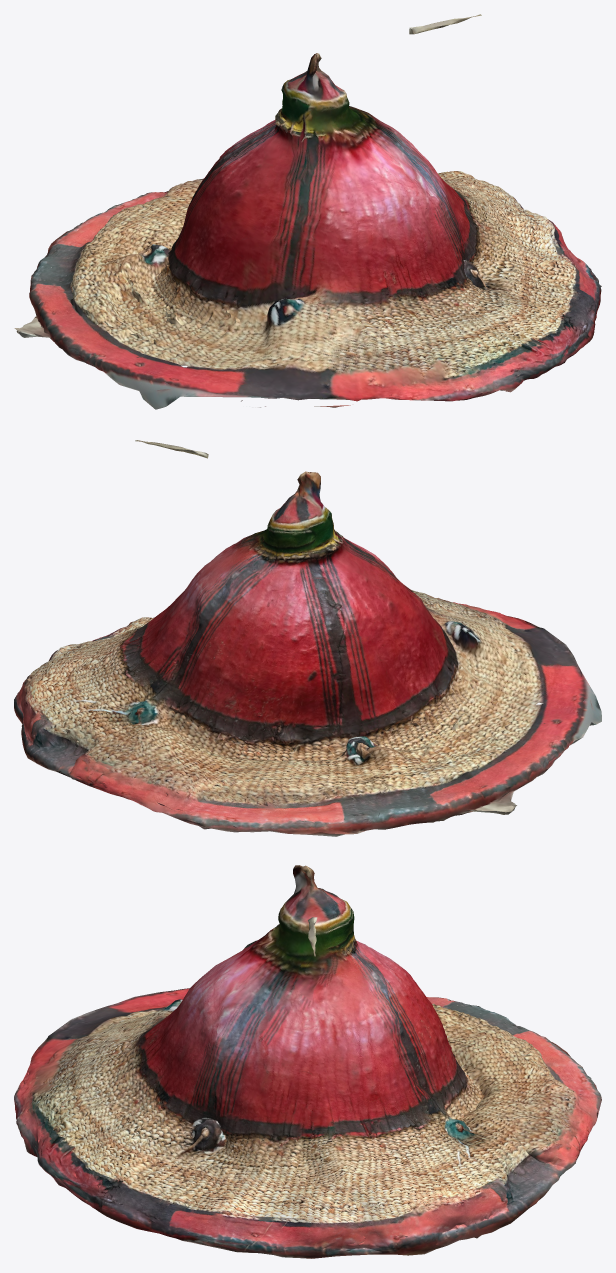
The model's file is tengane-hat.glb.
3 renders of one model, top to bottom at view 1: azimuth 30°, elevation 25°; view 2: azimuth 150°, elevation 25°; view 3: azimuth 270°, elevation 25°, orthographic. The views are drawn at different scales.
Visible parts, largest first — view 1: MDL_OBJ_textured_0; view 2: MDL_OBJ_textured_0; view 3: MDL_OBJ_textured_0.
Boxes of the visible parts, x1=… form: MDL_OBJ_textured_0: x1=14, y1=14, x2=601, y2=409; MDL_OBJ_textured_0: x1=14, y1=440, x2=601, y2=836; MDL_OBJ_textured_0: x1=14, y1=865, x2=601, y2=1258.
Size of the model in its own units: 0.3928 by 0.2011 by 0.3859.
1 material, 1 textured.
